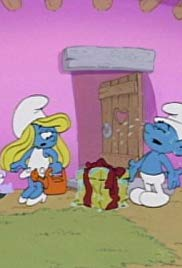smurf: (3, 91, 72, 208), (127, 100, 182, 211)
